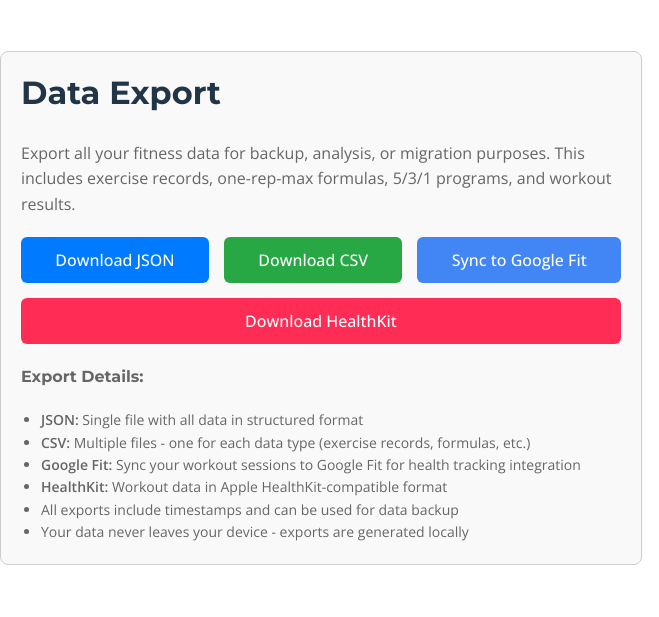
Scenario: DataExport › disables buttons during export
Expected: the button with class "export-button-csv" is shown, [224, 237, 402, 283]
Expected: the button with class "export-button-healthkit" is shown, [21, 298, 621, 344]
Step 1. Click the button with class "export-button-json" → point(115, 260), box [21, 237, 209, 283]
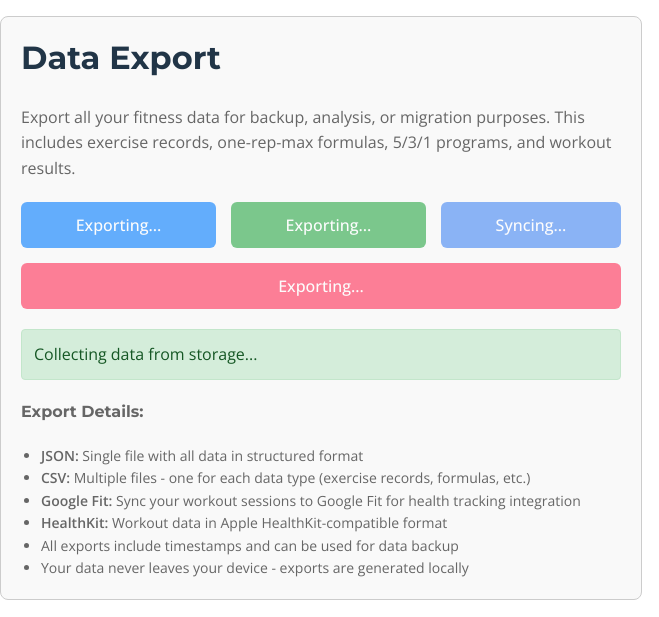
Expected: the button with class "export-button-json" is disabled, [21, 202, 216, 248]
Expected: the button with class "export-button-csv" is disabled, [231, 202, 426, 248]
Expected: the button with class "export-button-healthkit" is disabled, [21, 262, 621, 308]
